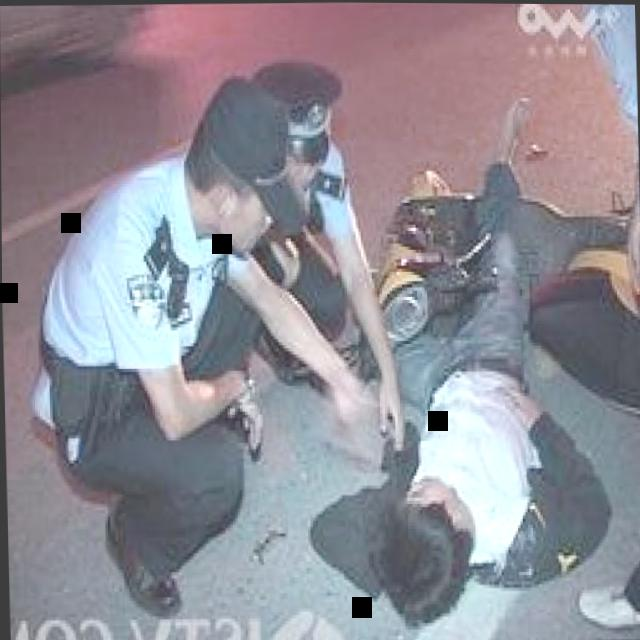Fall-Detected: (332, 106, 629, 630)
